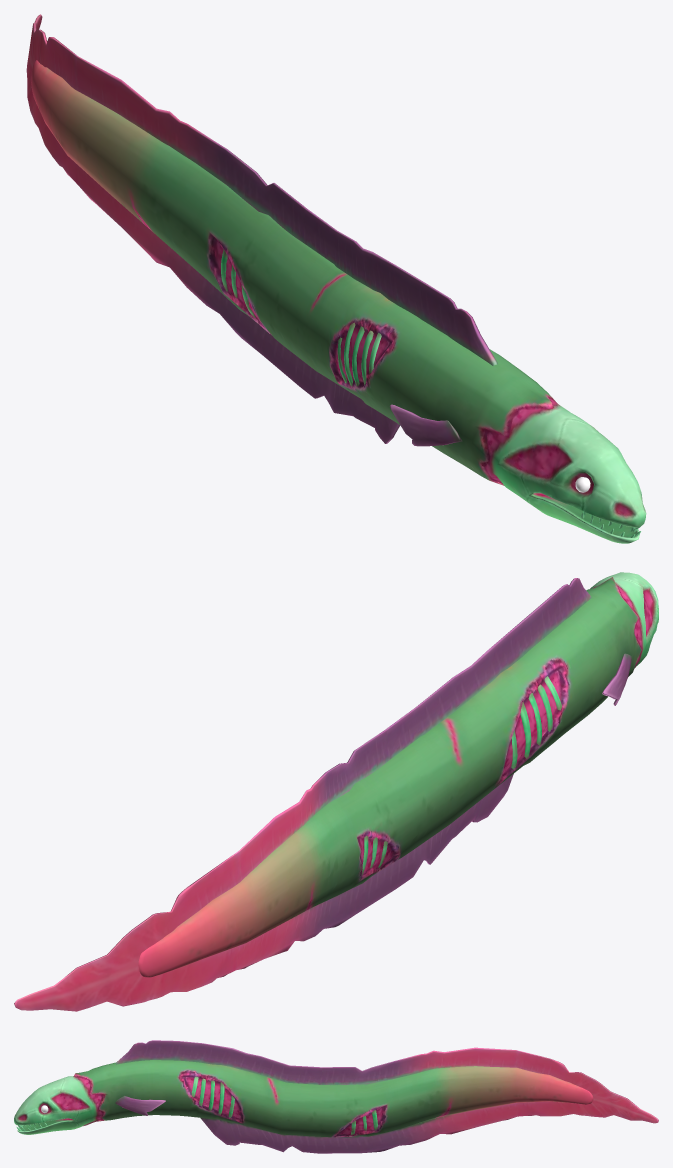
3 views of the same model, one above another, from view 1: azimuth 30°, elevation 25°; view 2: azimuth 150°, elevation 25°; view 3: azimuth 270°, elevation 25° (orthographic). The views are drawn at different scales.
Parts seen in each view (by area): view 1: SM_Fish_Eel_Undead_01_LOD0; view 2: SM_Fish_Eel_Undead_01_LOD0; view 3: SM_Fish_Eel_Undead_01_LOD0.
Boxes of the visible parts, x1=… form: SM_Fish_Eel_Undead_01_LOD0: x1=26, y1=14, x2=646, y2=543; SM_Fish_Eel_Undead_01_LOD0: x1=14, y1=572, x2=658, y2=1011; SM_Fish_Eel_Undead_01_LOD0: x1=14, y1=1040, x2=658, y2=1153.
Bounding box in the file's own units: 0.1281 × 0.1762 × 0.9474.
Materials: 1 (1 with a texture image).
